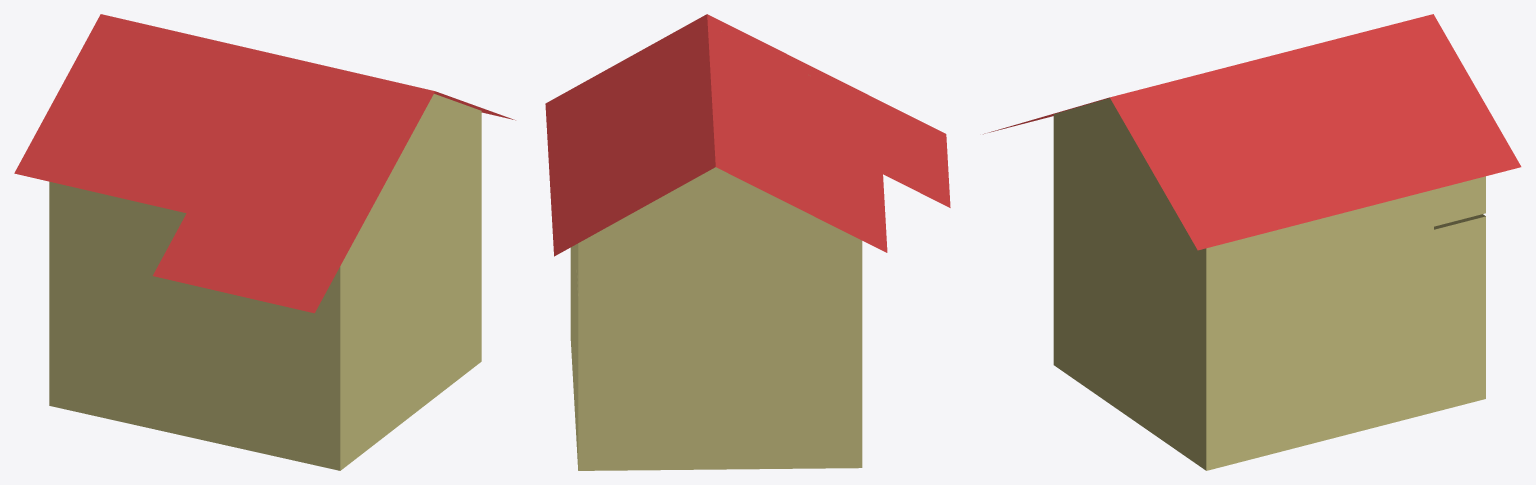
The picture shows the model from 3 angles, left to right: view 1: azimuth 30°, elevation 25°; view 2: azimuth 150°, elevation 25°; view 3: azimuth 270°, elevation 25°; orthographic projection. The views are drawn at different scales.
Size of the model in its own units: 14.39 by 15.75 by 10.5.
